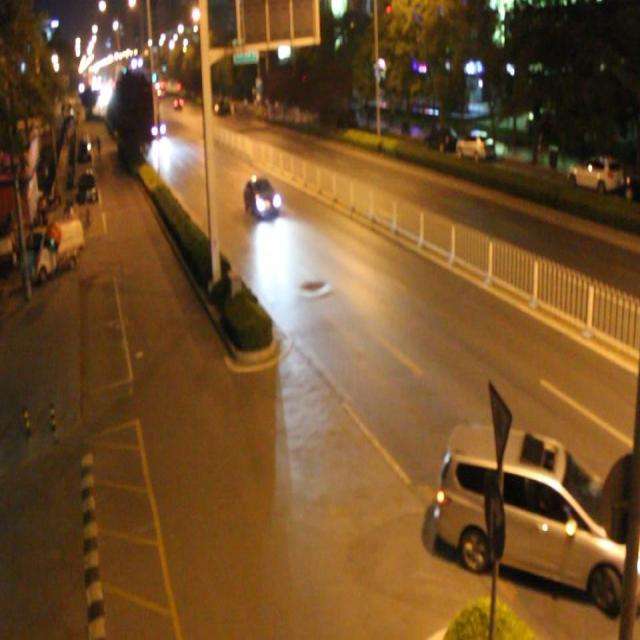car: (436, 420, 640, 612), (243, 178, 279, 219), (146, 117, 165, 138)
